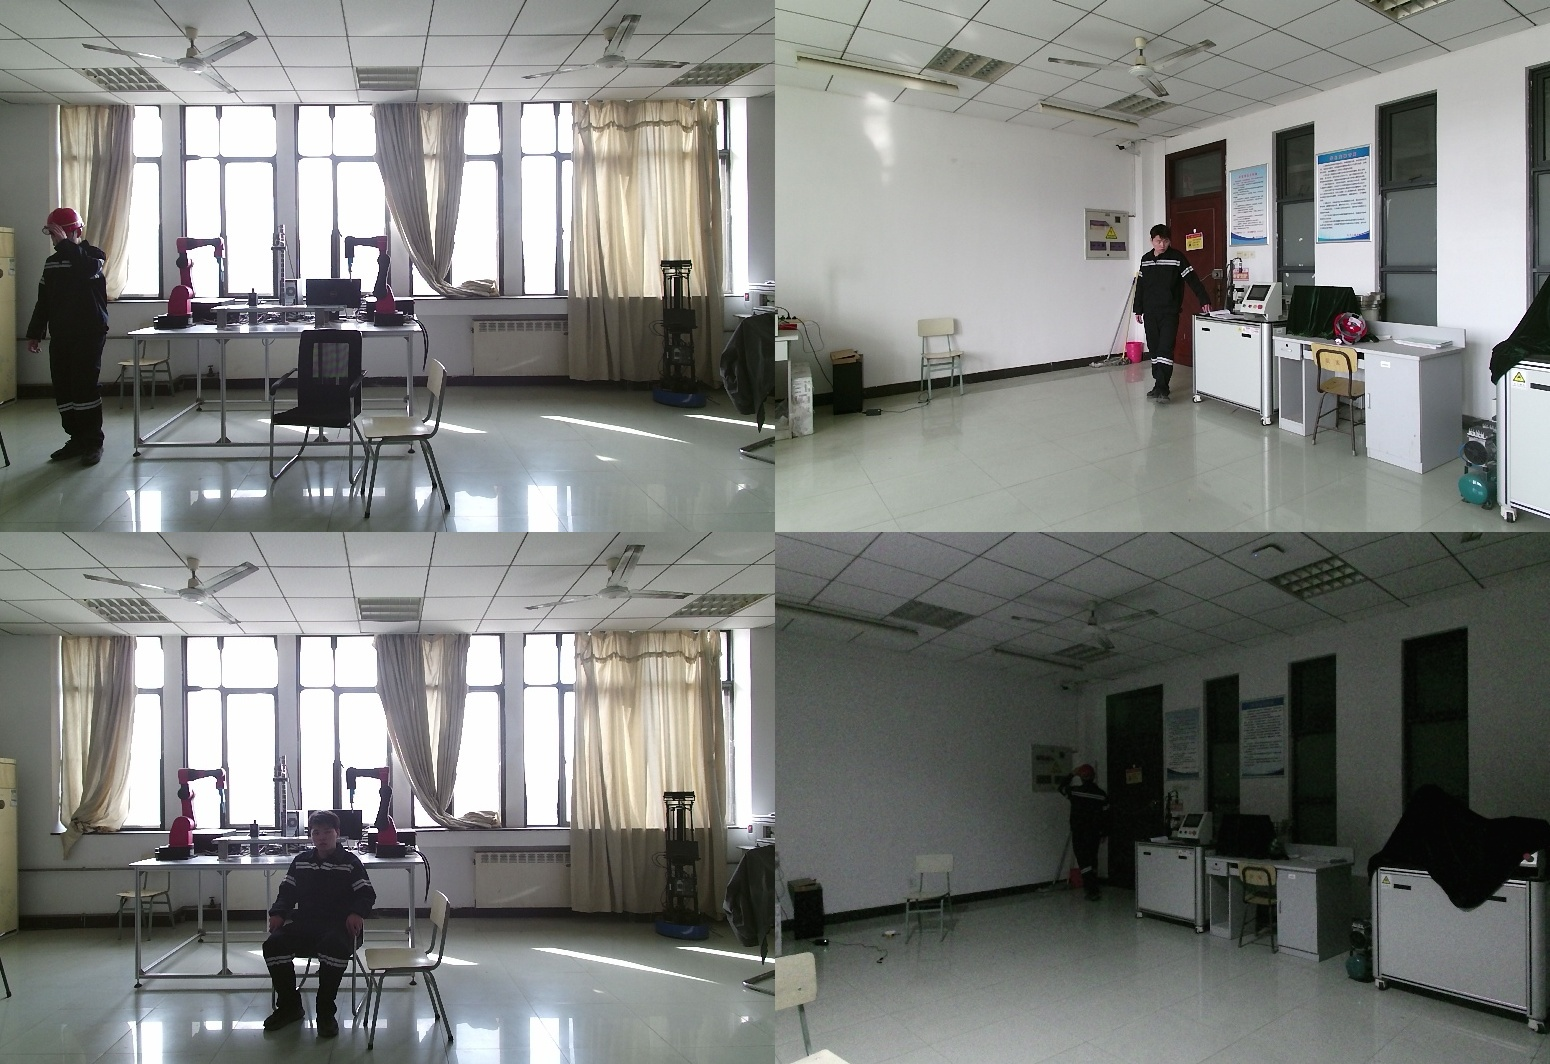person: (261, 812, 383, 1030), (27, 211, 122, 465), (1137, 226, 1213, 408), (1056, 768, 1118, 904)
